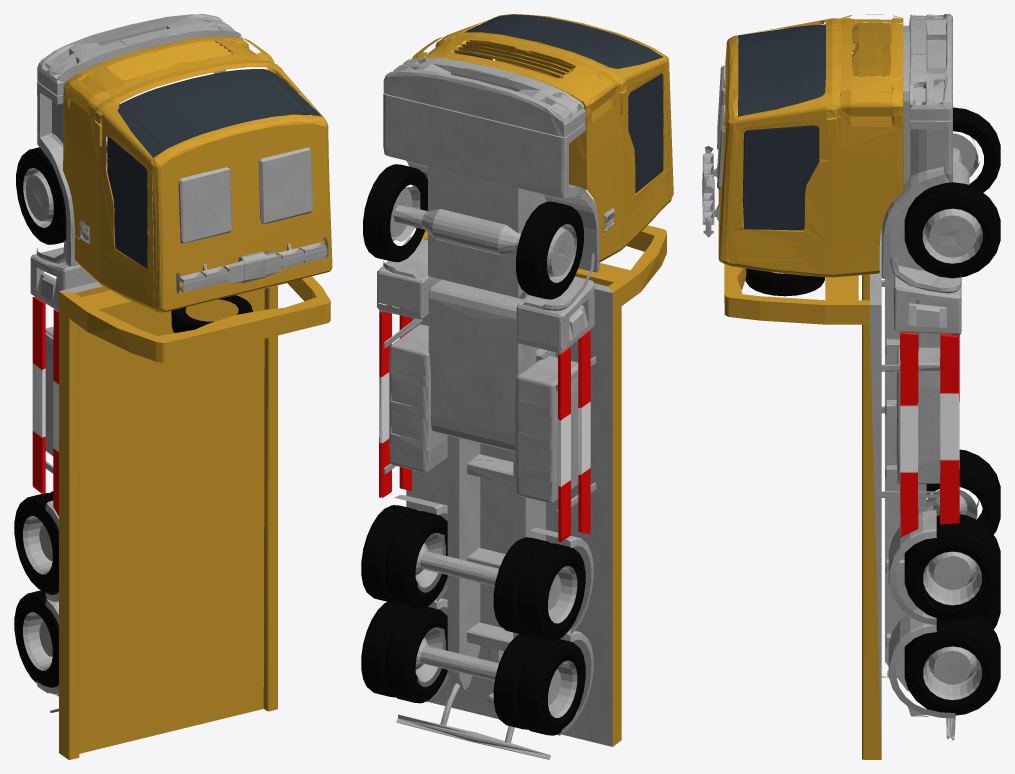
The model's file is jiuyuanche.glb.
The picture shows the model from 3 angles, left to right: view 1: azimuth 30°, elevation 25°; view 2: azimuth 150°, elevation 25°; view 3: azimuth 270°, elevation 25°; orthographic projection.
Visible parts, largest first — view 1: jiuyuqnche; view 2: jiuyuqnche; view 3: jiuyuqnche.
Part boxes in pixels (<box>): jiuyuqnche: <box>14,14,332,759</box>; jiuyuqnche: <box>361,14,673,759</box>; jiuyuqnche: <box>702,14,1000,759</box>.
Size of the model in its own units: 1.59 by 4.88 by 1.98.
9 materials, 9 textured.
